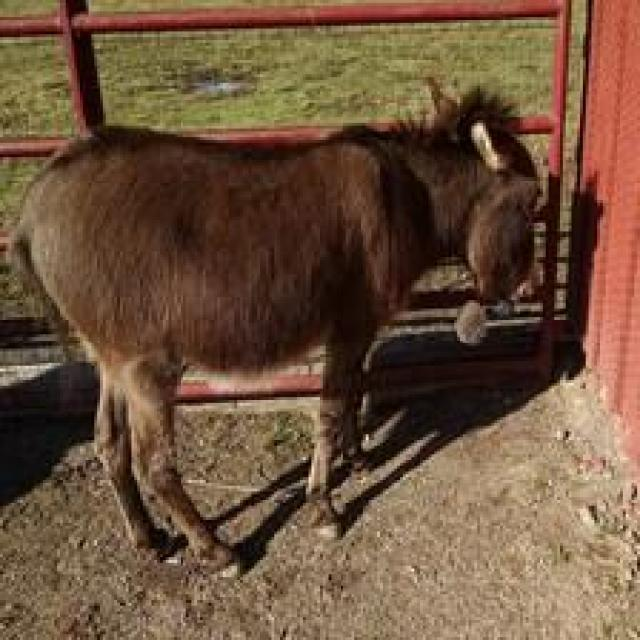Donkey: (3, 74, 543, 580)
